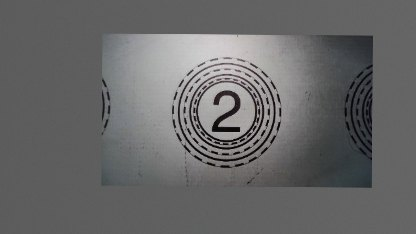2r: (171, 57, 281, 168)
